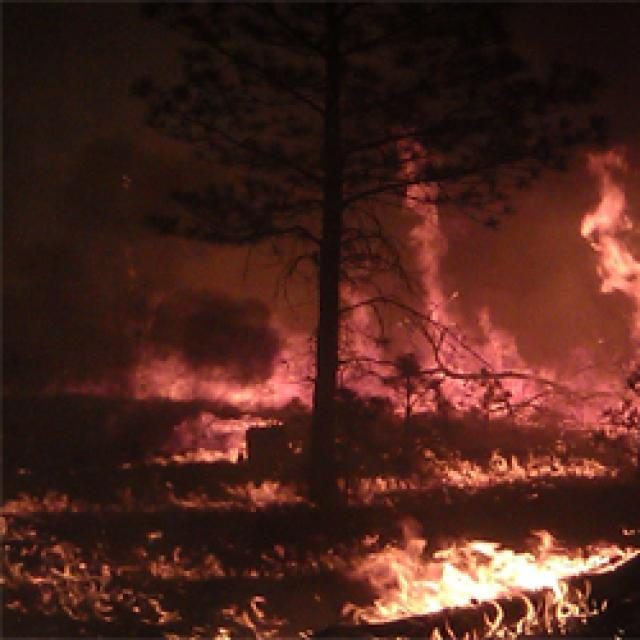Fire: (337, 113, 640, 424), (315, 528, 640, 638), (0, 476, 133, 637), (123, 330, 325, 410), (130, 590, 319, 640), (134, 532, 312, 578), (414, 449, 620, 486), (146, 414, 276, 468), (156, 470, 308, 515), (332, 458, 414, 507)
Smoke: (0, 0, 316, 328), (0, 321, 123, 476)
